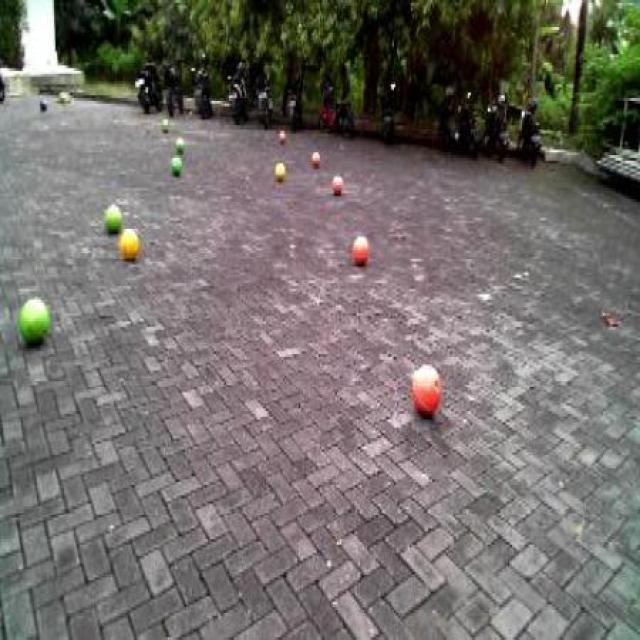buoy: (15, 286, 53, 354), (408, 360, 444, 422), (114, 218, 142, 264), (100, 196, 125, 237), (350, 231, 370, 272), (271, 158, 287, 182), (168, 153, 182, 177), (330, 172, 344, 196)
